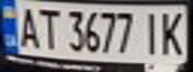3: (60, 7, 84, 53)
6: (81, 8, 103, 54)
7: (115, 8, 139, 55), (97, 9, 118, 54)
A: (12, 3, 42, 50)
I: (139, 8, 163, 55)
K: (157, 8, 190, 56)
T: (33, 4, 60, 51)
